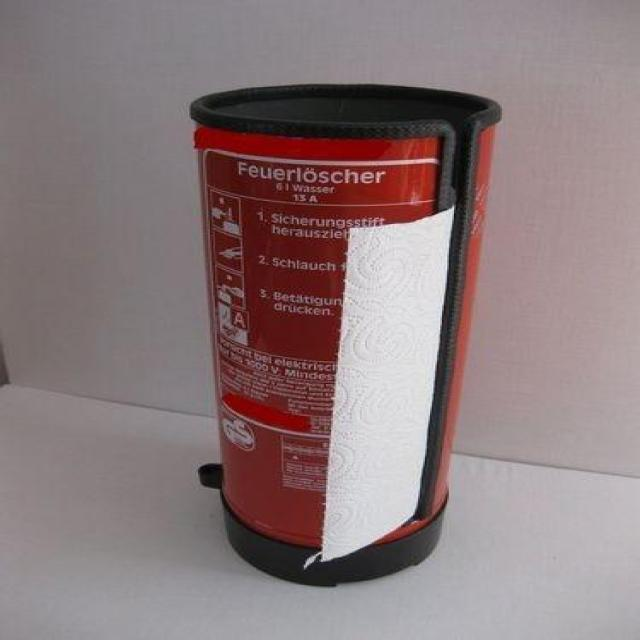fire_extinguisher: (186, 74, 514, 592)
